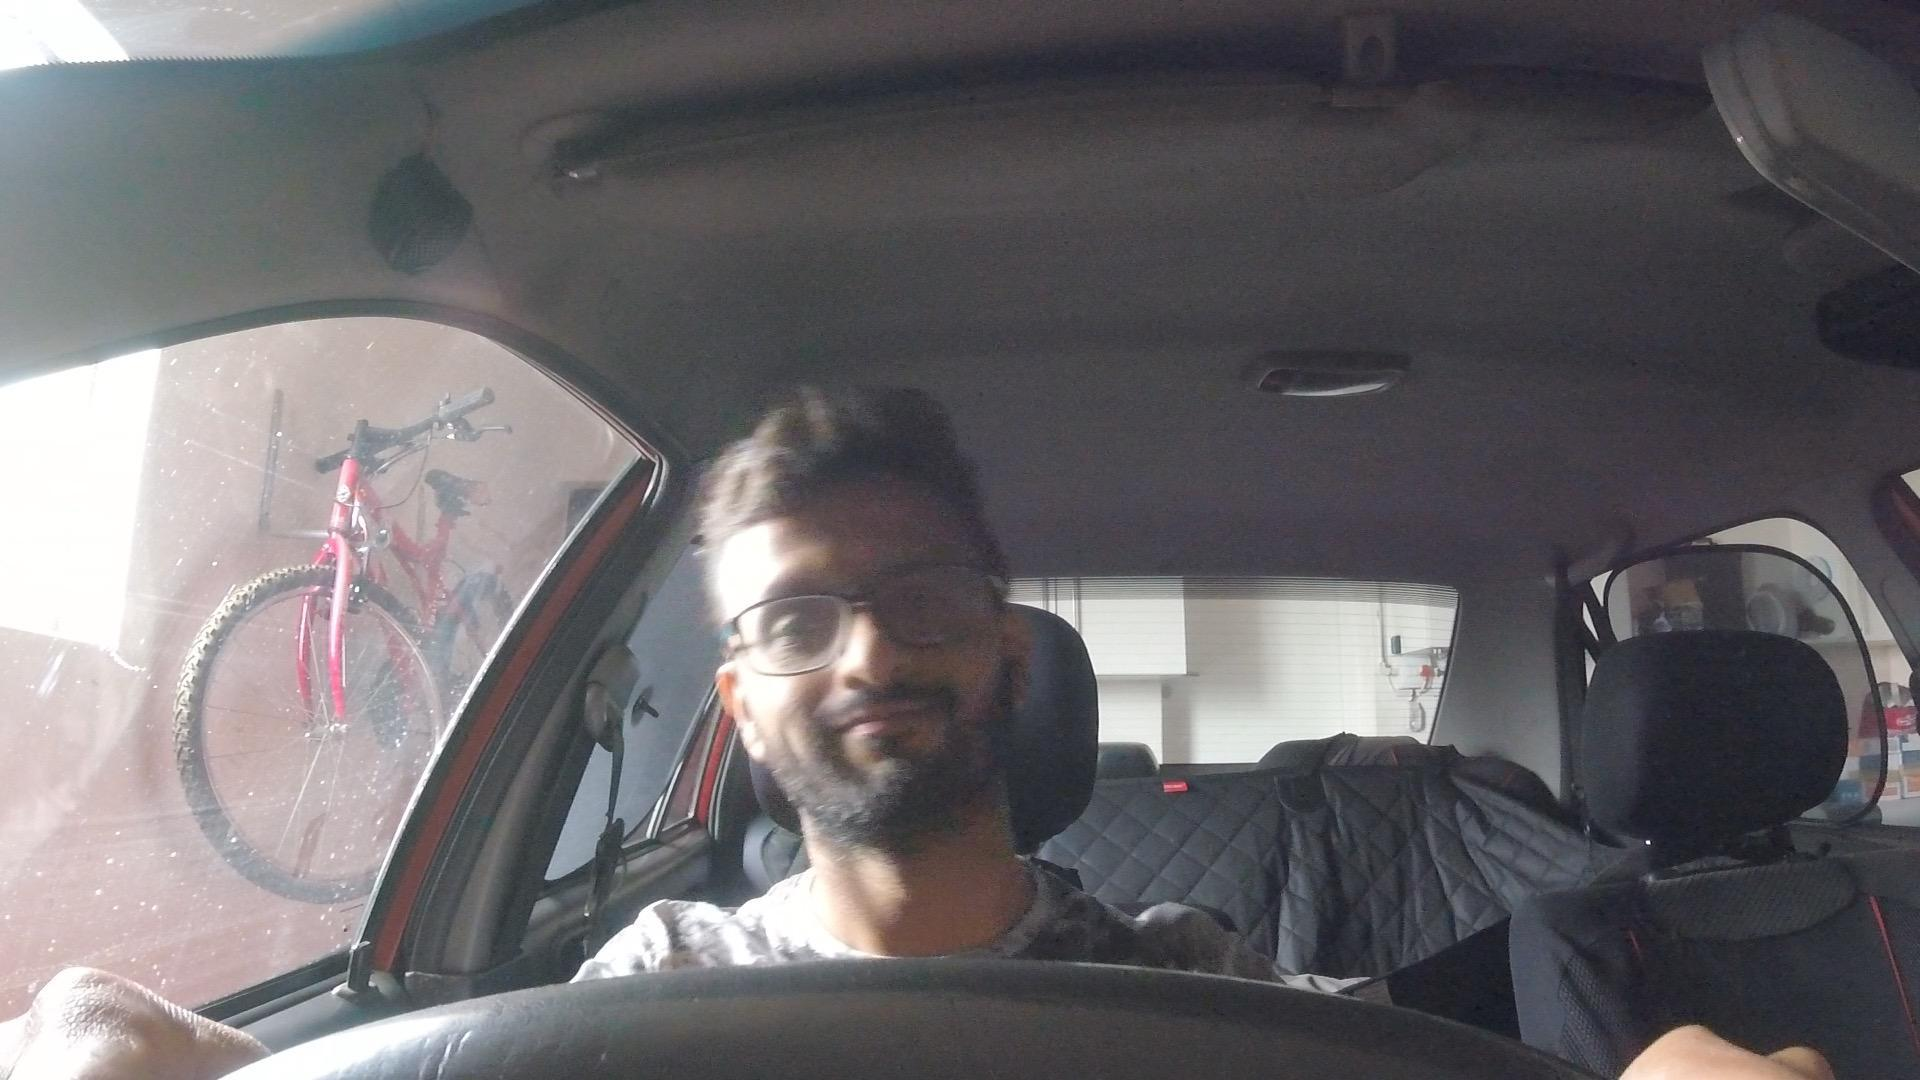SafeDriving: (694, 373, 1035, 866)
